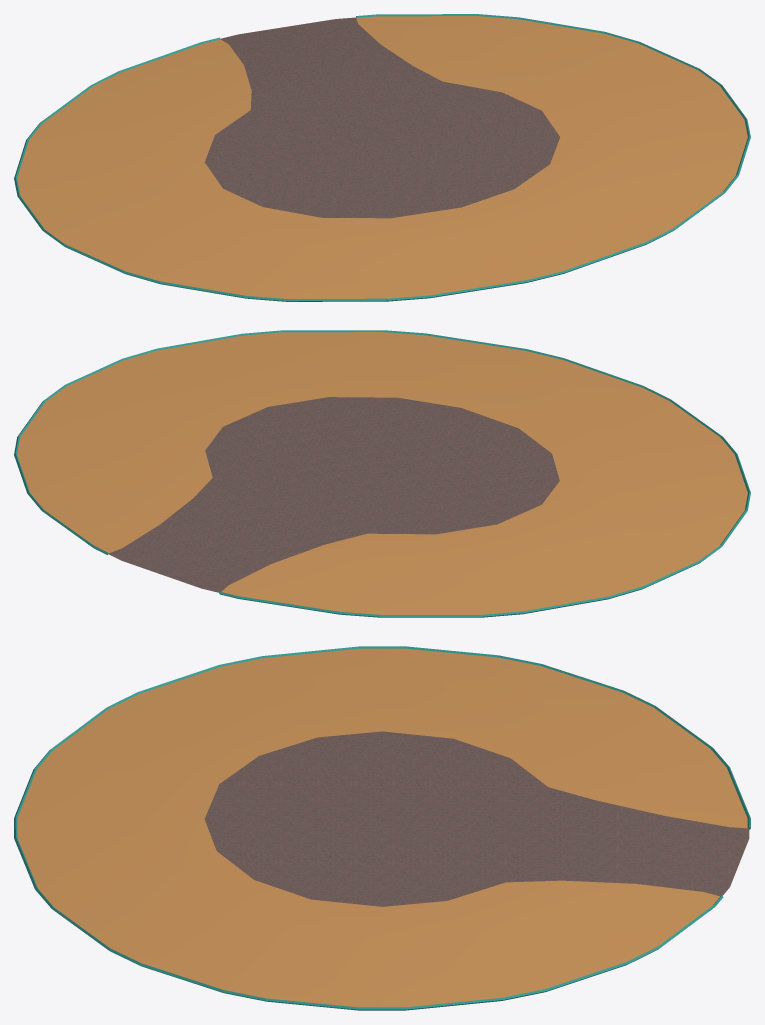
Rendered from AquamarineArea.fbx.
The picture shows the model from 3 angles, top to bottom: view 1: azimuth 30°, elevation 25°; view 2: azimuth 150°, elevation 25°; view 3: azimuth 270°, elevation 25°; orthographic projection. The views are drawn at different scales.
Parts seen in each view (by area): view 1: AquamarineArea, AquamarineAreaBorders; view 2: AquamarineArea, AquamarineAreaBorders; view 3: AquamarineArea, AquamarineAreaBorders.
Boxes of the visible parts, x1,y1,x2,y2 form: AquamarineArea: [17, 16, 747, 298]; AquamarineAreaBorders: [14, 14, 750, 301]; AquamarineArea: [17, 332, 747, 614]; AquamarineAreaBorders: [14, 330, 750, 617]; AquamarineArea: [17, 648, 749, 1007]; AquamarineAreaBorders: [14, 646, 750, 1010].
Size of the model in its own units: 243 by 209 by 3.42.
